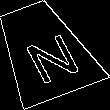N_NW: (11, 20, 78, 82)
